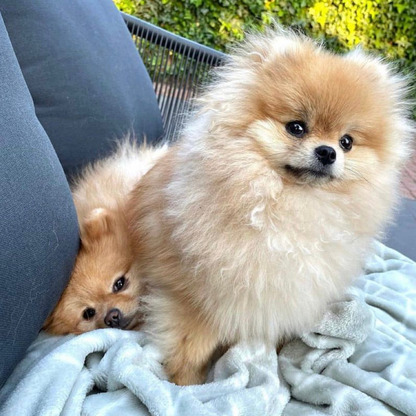Pomeranian: (175, 27, 401, 342), (47, 155, 171, 335)
